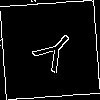Y: (24, 24, 80, 81)
